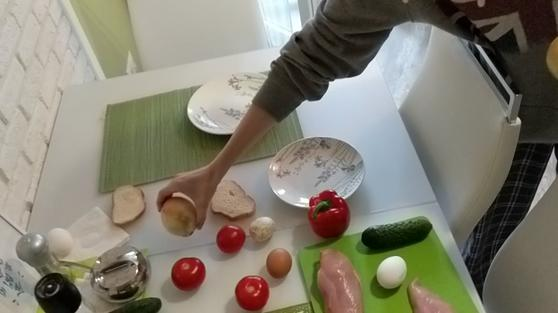champignon: (250, 216, 275, 241)
cucumber: (359, 216, 432, 250)
egg: (375, 256, 406, 290), (266, 247, 291, 278)
pepper: (307, 190, 350, 239)
tomato: (165, 255, 205, 289), (233, 276, 270, 307), (216, 225, 245, 253)
white_bread: (209, 178, 257, 220), (111, 184, 147, 226)
